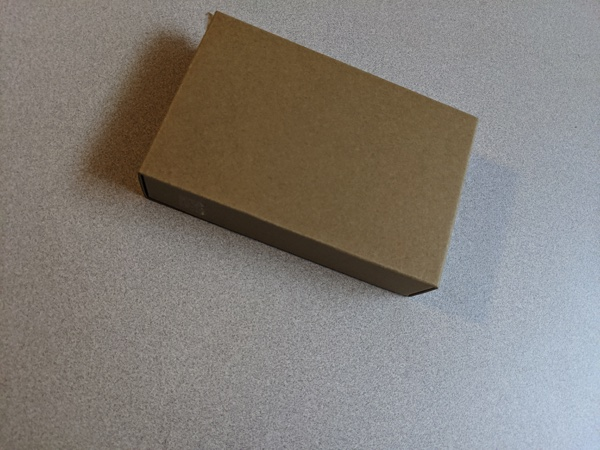cardboard: (128, 2, 509, 319)
